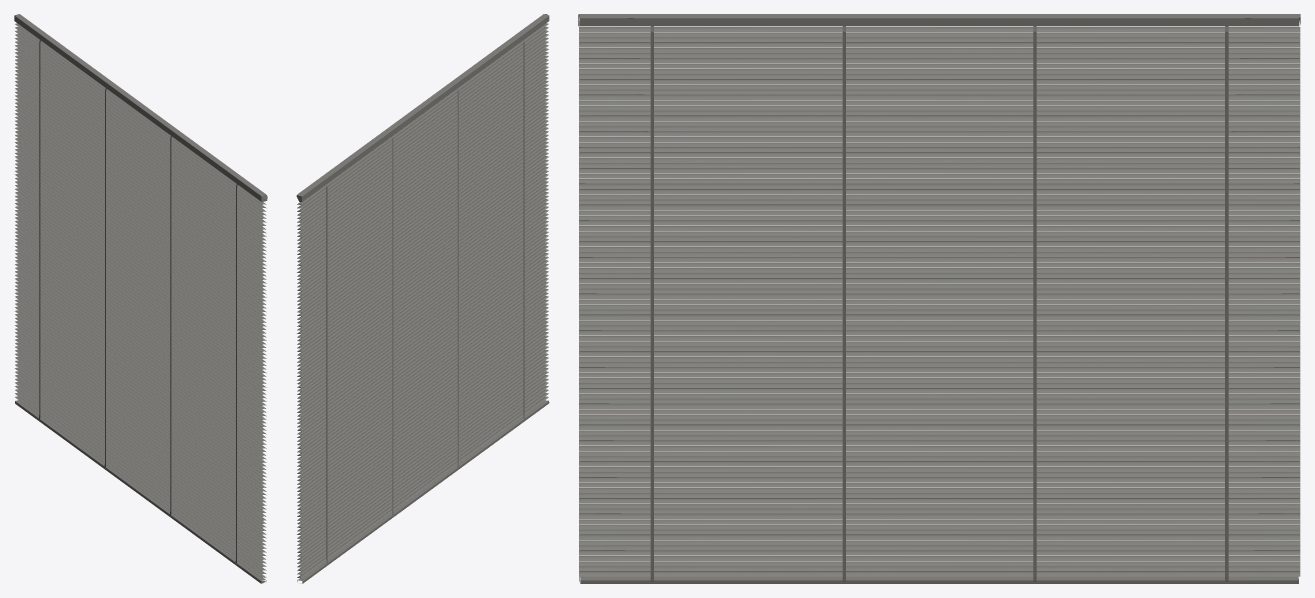
File: blinds_window_4m_open_a02.glb
3 renders of one model, left to right at view 1: azimuth 30°, elevation 25°; view 2: azimuth 150°, elevation 25°; view 3: azimuth 270°, elevation 25°, orthographic. The views are drawn at different scales.
Parts seen in each view (by area): view 1: geometry_0; view 2: geometry_0; view 3: geometry_0.
Part boxes in pixels (left/top/right/bottom): geometry_0: left=14, top=14, right=267, bottom=583; geometry_0: left=296, top=14, right=549, bottom=583; geometry_0: left=578, top=14, right=1300, bottom=583.
Size of the model in its own units: 0.00651 by 0.3639 by 0.42.
Materials: 1 (1 with a texture image).
